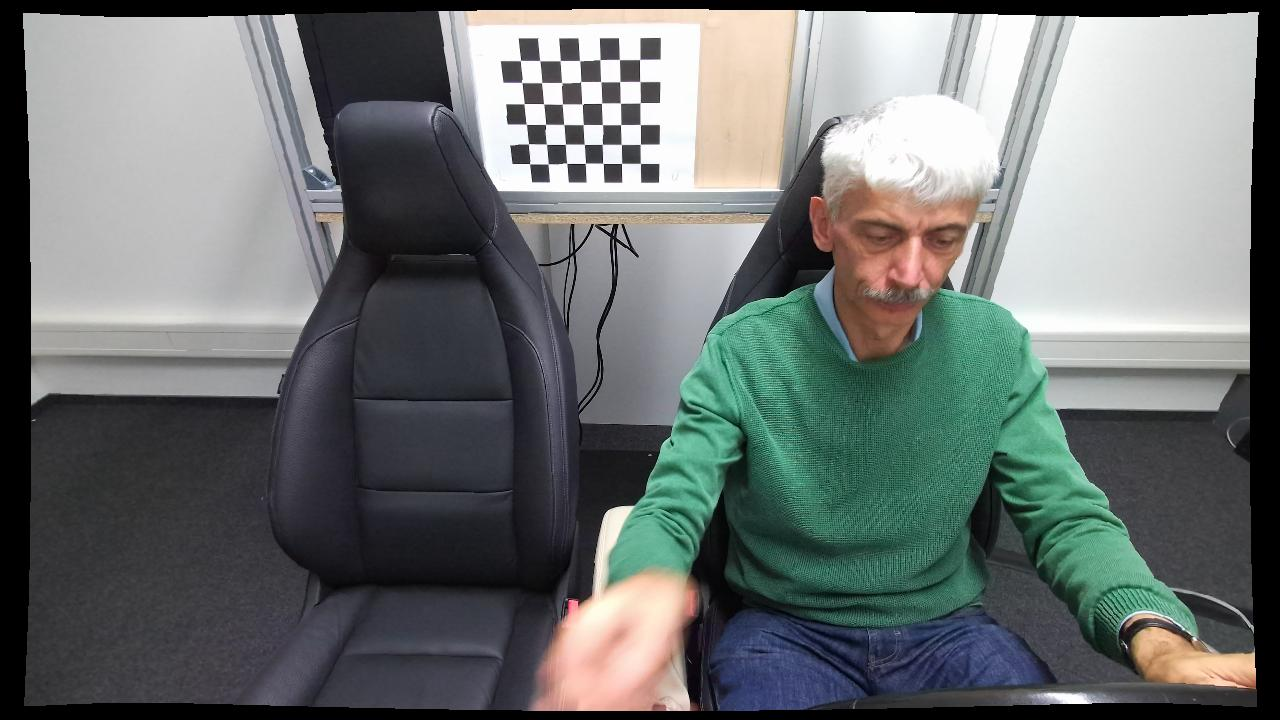Distracted: (531, 96, 1103, 712)
